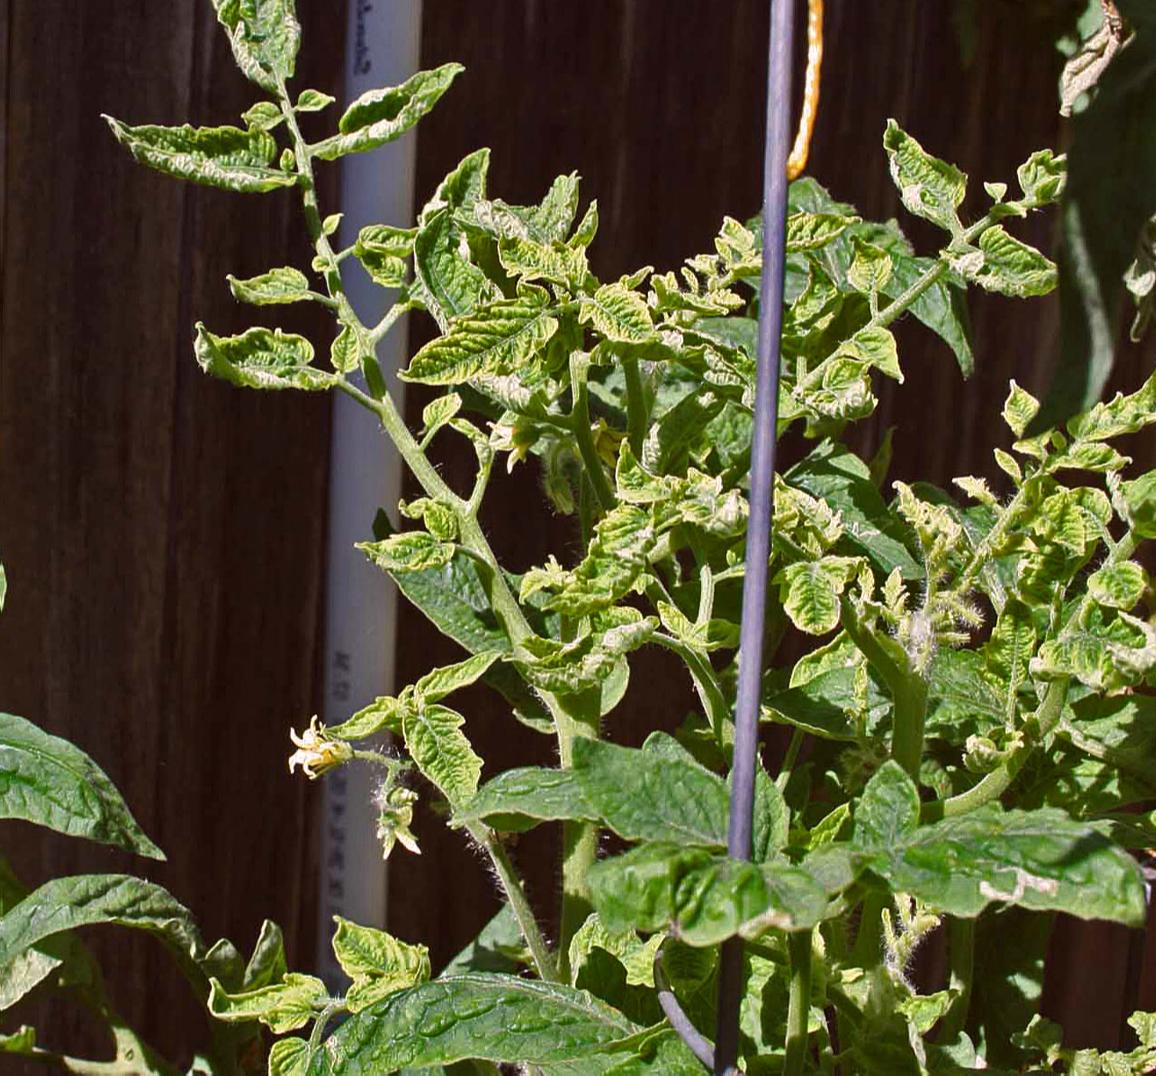Tomato leaf yellow virus: (840, 772, 1156, 938), (552, 724, 786, 868), (546, 445, 703, 616), (74, 103, 307, 213), (155, 315, 353, 414), (401, 290, 576, 399), (372, 683, 503, 815), (869, 113, 967, 233), (1059, 339, 1156, 459), (1022, 609, 1156, 692), (330, 502, 462, 580), (202, 0, 316, 90), (564, 271, 673, 362), (480, 219, 598, 297), (772, 550, 861, 647), (1013, 477, 1116, 555), (964, 228, 1062, 308), (207, 255, 320, 315), (1072, 560, 1149, 621)
